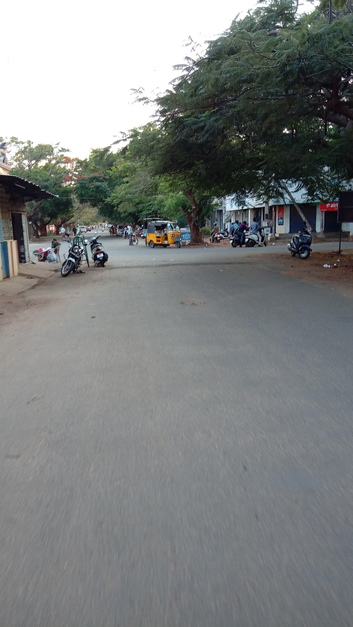bump: (94, 260, 262, 265)
